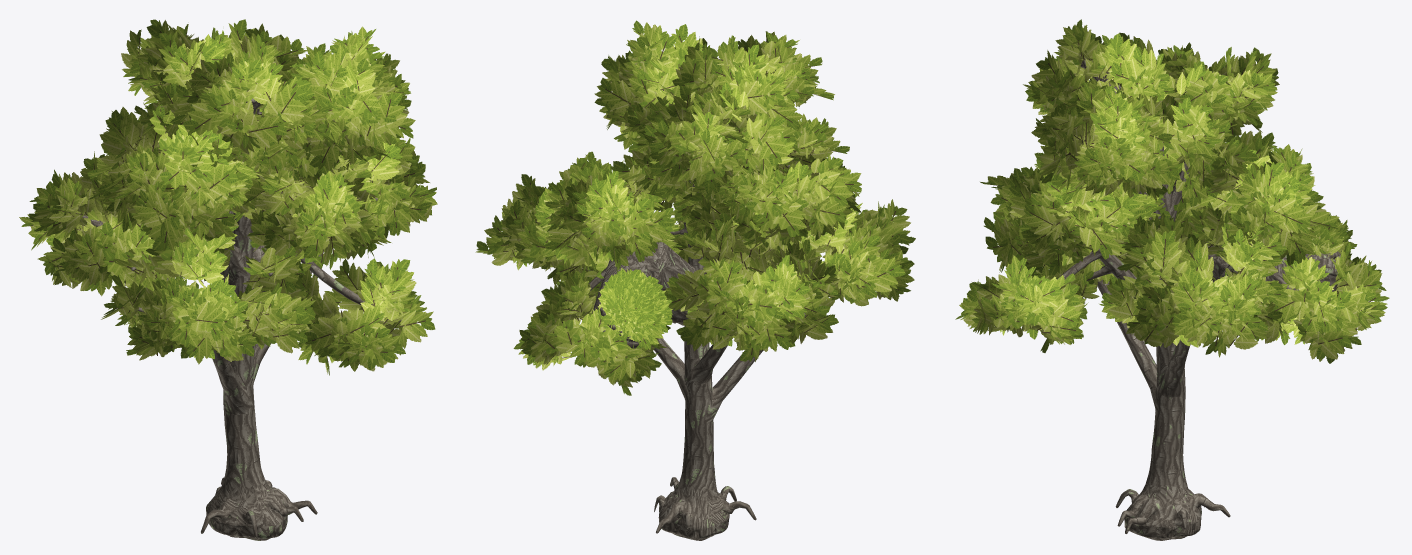
File: environment_elm6_v34.fbx
3 views of the same model, side by side, from view 1: azimuth 30°, elevation 25°; view 2: azimuth 150°, elevation 25°; view 3: azimuth 270°, elevation 25° (orthographic). The views are drawn at different scales.
Visible parts, largest first — view 1: environment_elm6_v34_lod0; view 2: environment_elm6_v34_lod0; view 3: environment_elm6_v34_lod0.
Part boxes in pixels (<box>): environment_elm6_v34_lod0: <box>19,19,437,540</box>; environment_elm6_v34_lod0: <box>475,20,915,540</box>; environment_elm6_v34_lod0: <box>955,19,1389,540</box>.
Size of what is drawn, in the model's own units: 2010 by 2592 by 2115.
Materials: 2 (2 with a texture image).
